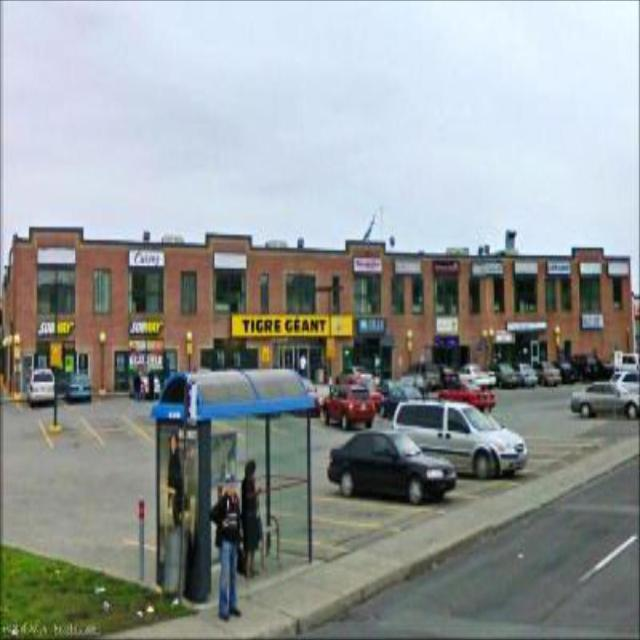car: (326, 419, 452, 504), (317, 378, 375, 437), (26, 357, 57, 409), (60, 368, 92, 401)
